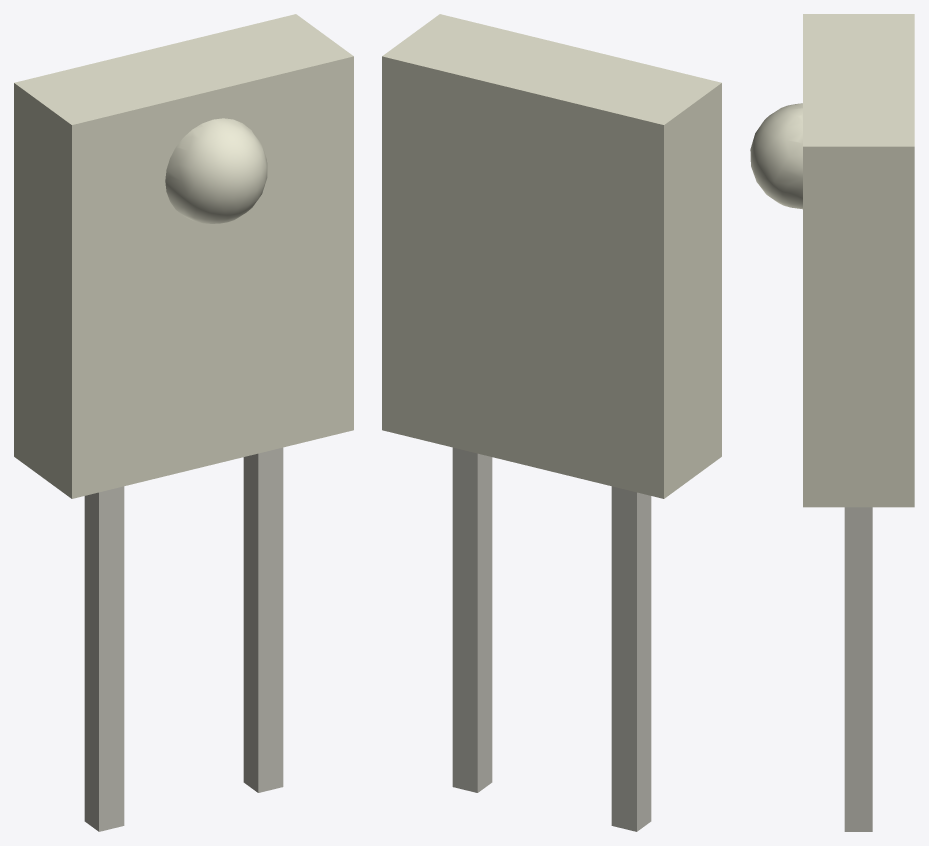
Rendered from kc-led_sideemitter_rectangular_w4.5mm_h1.6mm.glb.
3 views of the same model, side by side, from view 1: azimuth 30°, elevation 25°; view 2: azimuth 150°, elevation 25°; view 3: azimuth 270°, elevation 25° (orthographic). The views are drawn at different scales.
Visible parts, largest first — view 1: 0.75_0.75_0.6666666666666666_0, 0.6666666666666666_0.6666666666666666_0.5833333333333334_0.8; view 2: 0.75_0.75_0.6666666666666666_0, 0.6666666666666666_0.6666666666666666_0.5833333333333334_0.8; view 3: 0.75_0.75_0.6666666666666666_0, 0.6666666666666666_0.6666666666666666_0.5833333333333334_0.8.
Boxes of the visible parts, box(x1,y1,x2,y2) form: 0.75_0.75_0.6666666666666666_0: box(14, 14, 353, 498); 0.6666666666666666_0.6666666666666666_0.5833333333333334_0.8: box(84, 447, 283, 831); 0.75_0.75_0.6666666666666666_0: box(382, 14, 721, 498); 0.6666666666666666_0.6666666666666666_0.5833333333333334_0.8: box(452, 447, 651, 831); 0.75_0.75_0.6666666666666666_0: box(750, 14, 914, 507); 0.6666666666666666_0.6666666666666666_0.5833333333333334_0.8: box(844, 507, 872, 831).
Bounding box in the file's own units: 0.45 × 1.12 × 0.2352.
